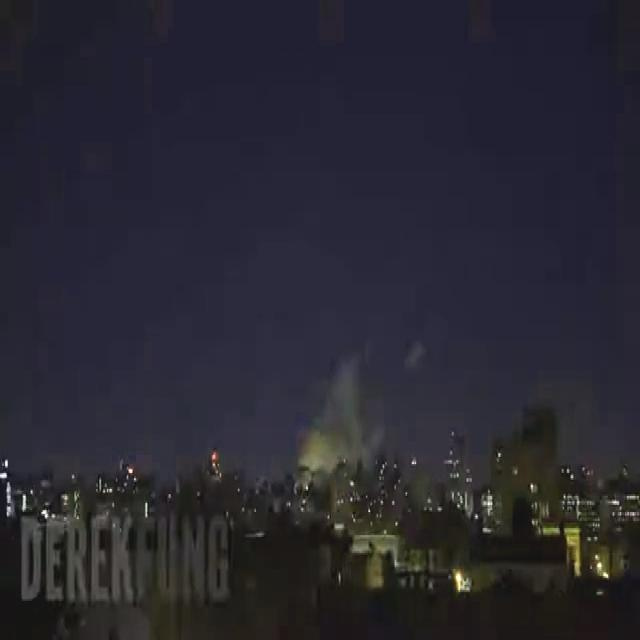smoke: (298, 357, 383, 471), (405, 341, 425, 366)
